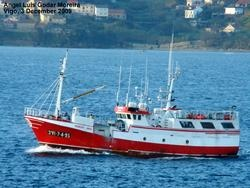otherboat: (21, 35, 244, 161)
